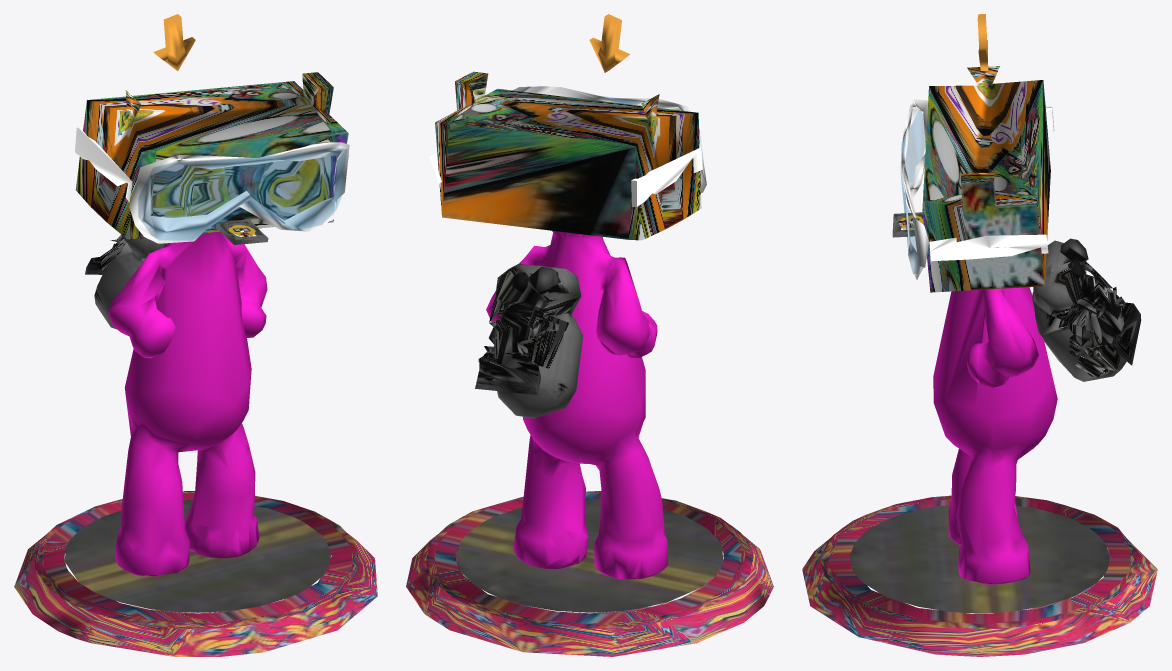
3 renders of one model, left to right at view 1: azimuth 30°, elevation 25°; view 2: azimuth 150°, elevation 25°; view 3: azimuth 270°, elevation 25°, orthographic. The views are drawn at different scales.
Size of the model in its own units: 1.45 by 2.47 by 1.43.
13 materials, 6 textured.
